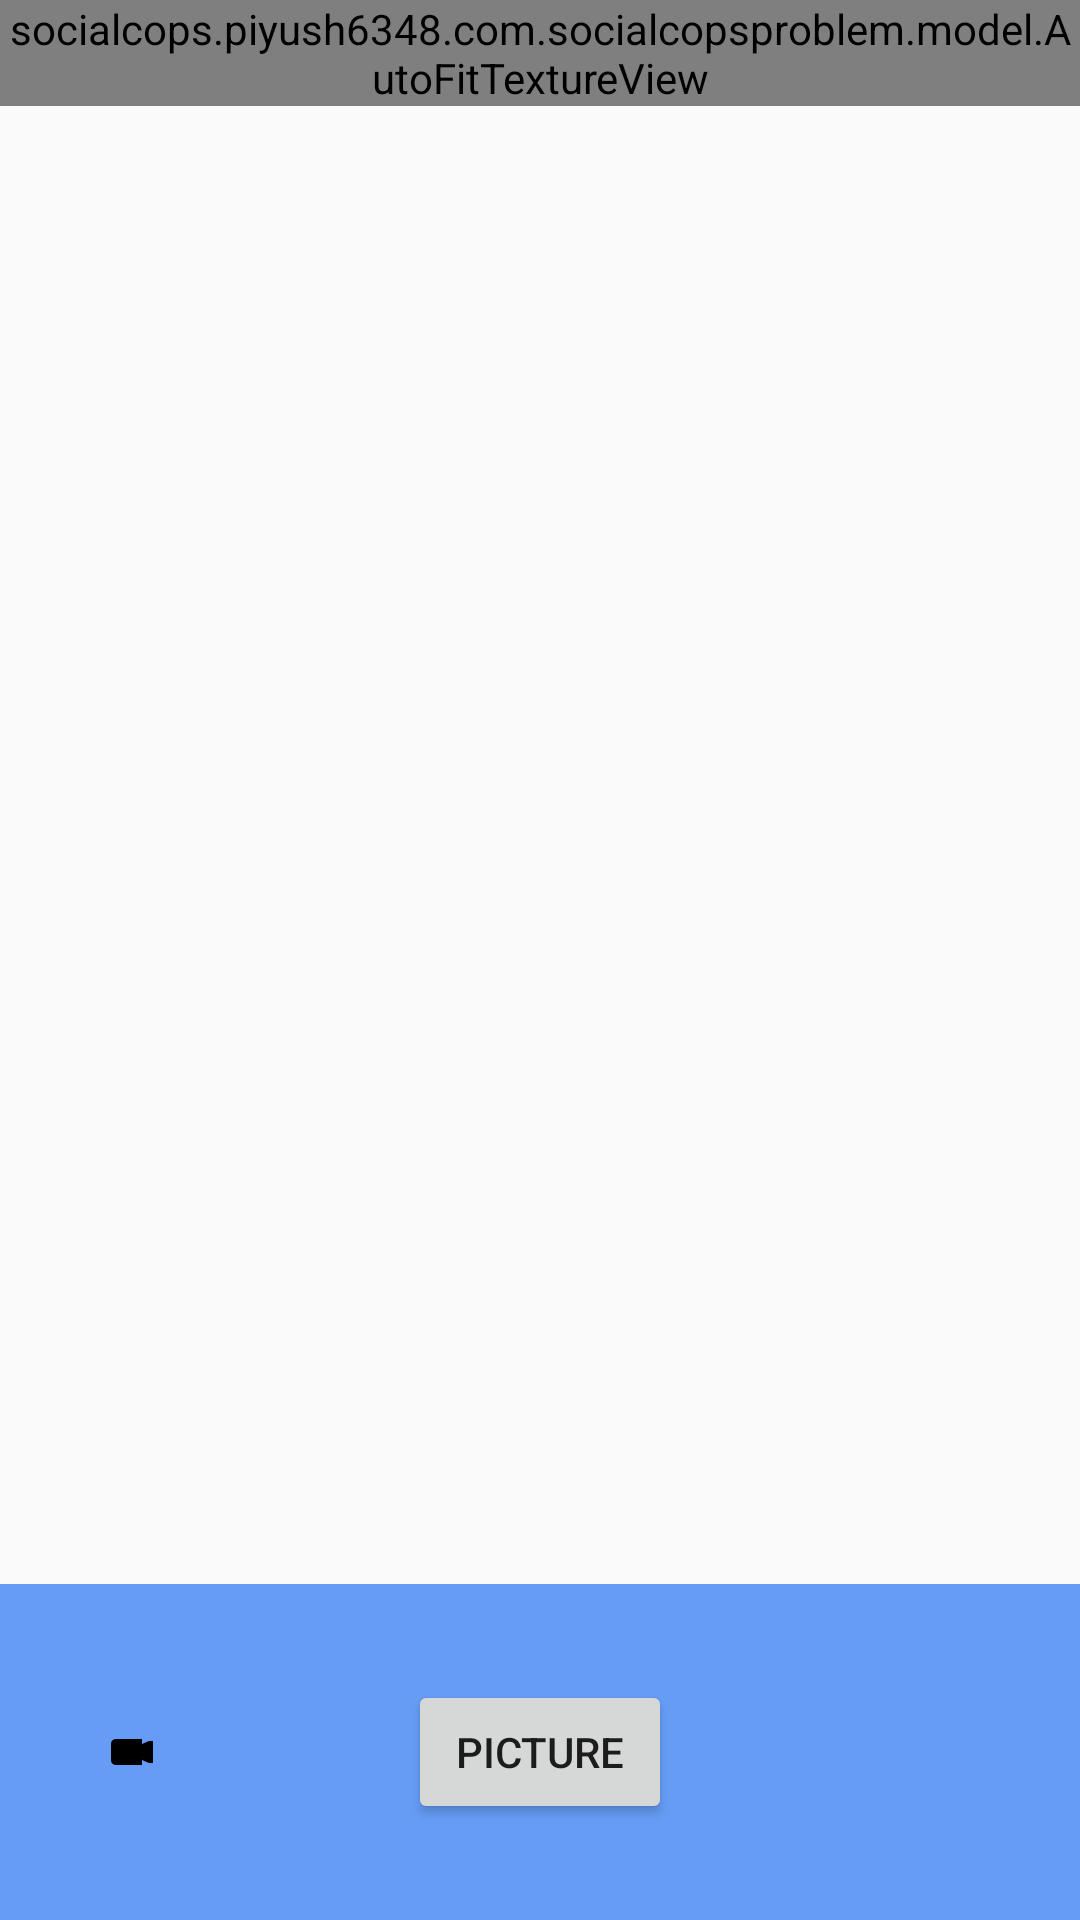

Icon bounding boxes for this 1080px×1920px phone screenshot, format (x1, y1, x2, y2):
presence video online: (111, 1739, 153, 1765)
